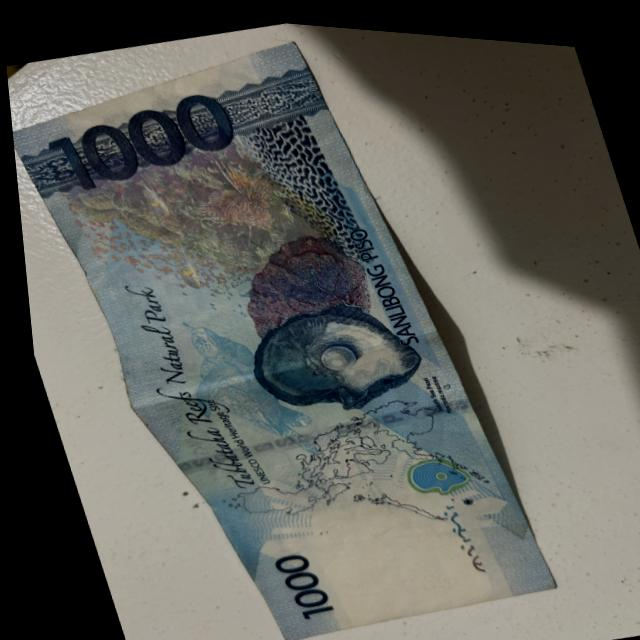1000_pearl: (237, 281, 426, 430)
1000_pearl_watermark: (387, 442, 464, 500)
